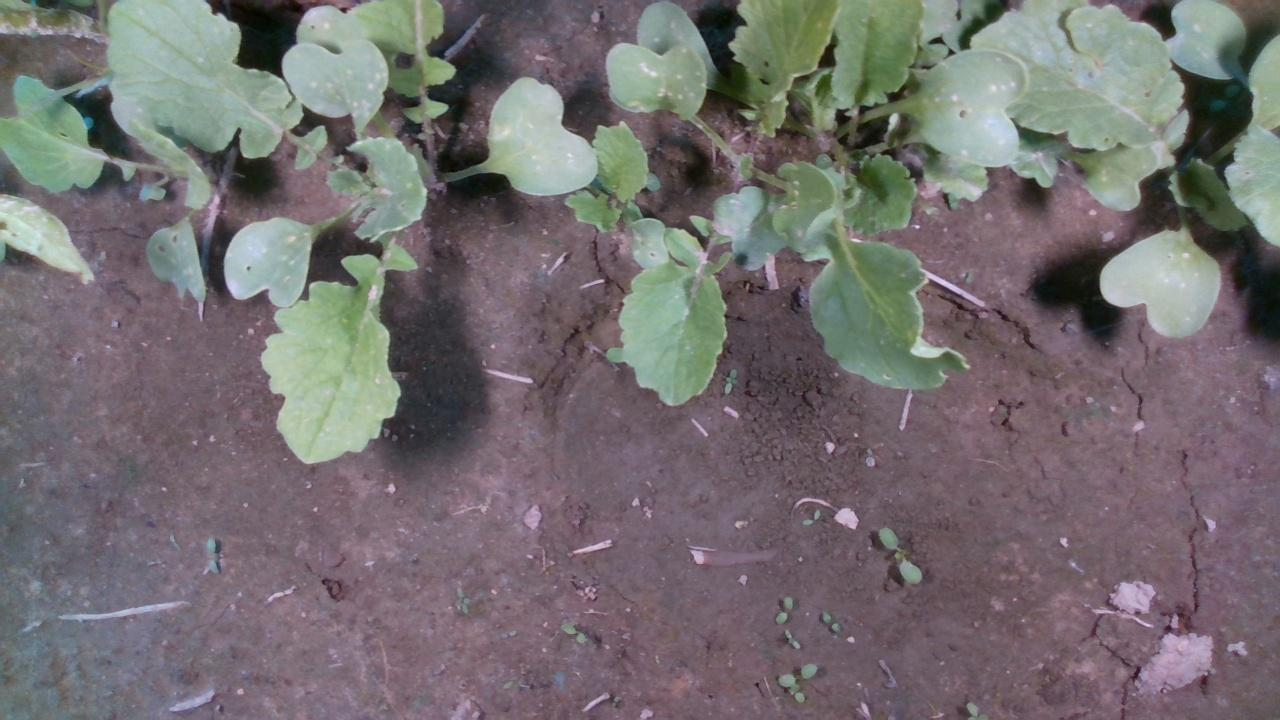weed: (876, 525, 923, 585), (203, 535, 221, 575), (772, 592, 793, 624), (559, 621, 586, 644), (453, 585, 470, 614), (820, 609, 840, 633), (722, 367, 736, 394), (799, 508, 820, 526), (499, 627, 516, 638)
